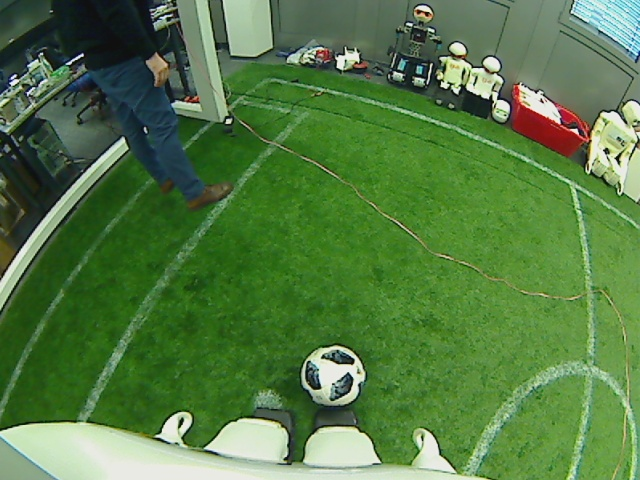ball: (299, 343, 364, 408)
